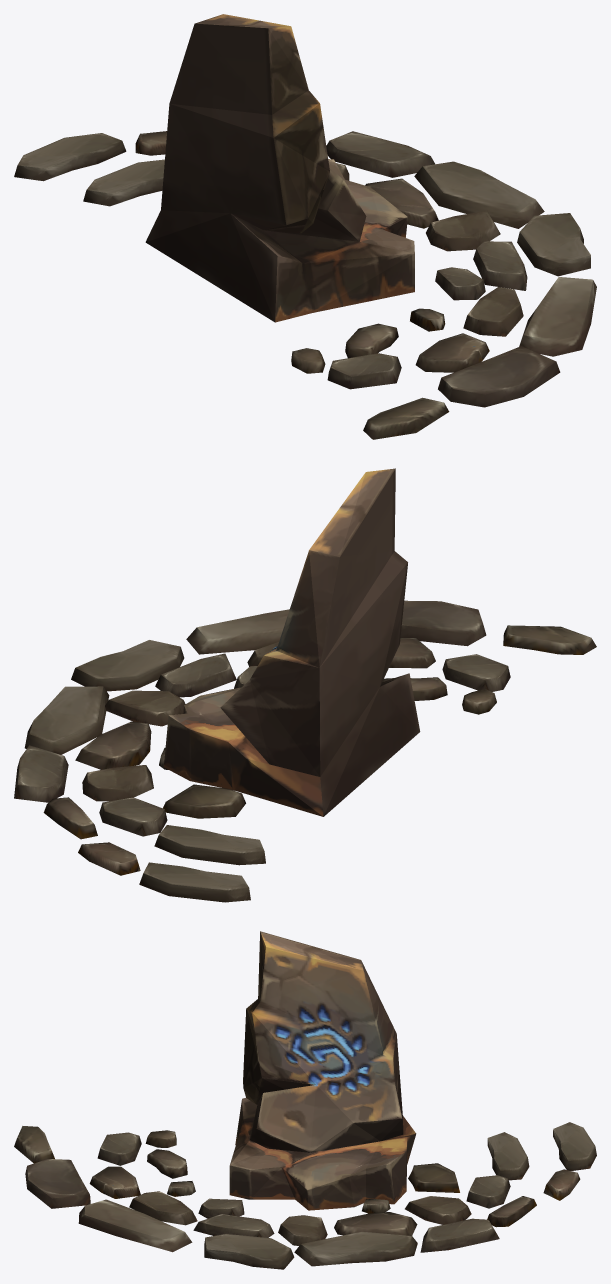
Rendered from JiTan04.FBX.
3 views of the same model, one above another, from view 1: azimuth 30°, elevation 25°; view 2: azimuth 150°, elevation 25°; view 3: azimuth 270°, elevation 25° (orthographic). The views are drawn at different scales.
Parts seen in each view (by area): view 1: JiTan04; view 2: JiTan04; view 3: JiTan04.
Boxes of the visible parts, bbox=[...] form: JiTan04: bbox=[14, 14, 596, 439]; JiTan04: bbox=[14, 468, 596, 902]; JiTan04: bbox=[14, 931, 596, 1269].
Bounding box in the file's own units: 134 × 98.31 × 236.
